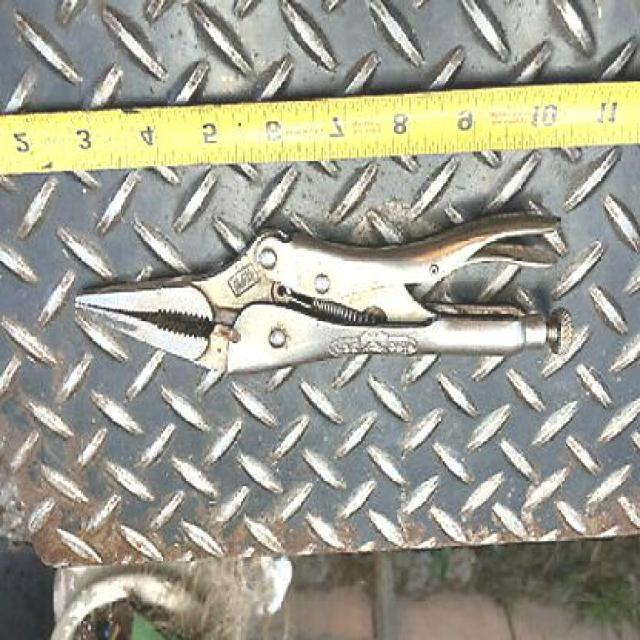pliers: (66, 207, 568, 376)
